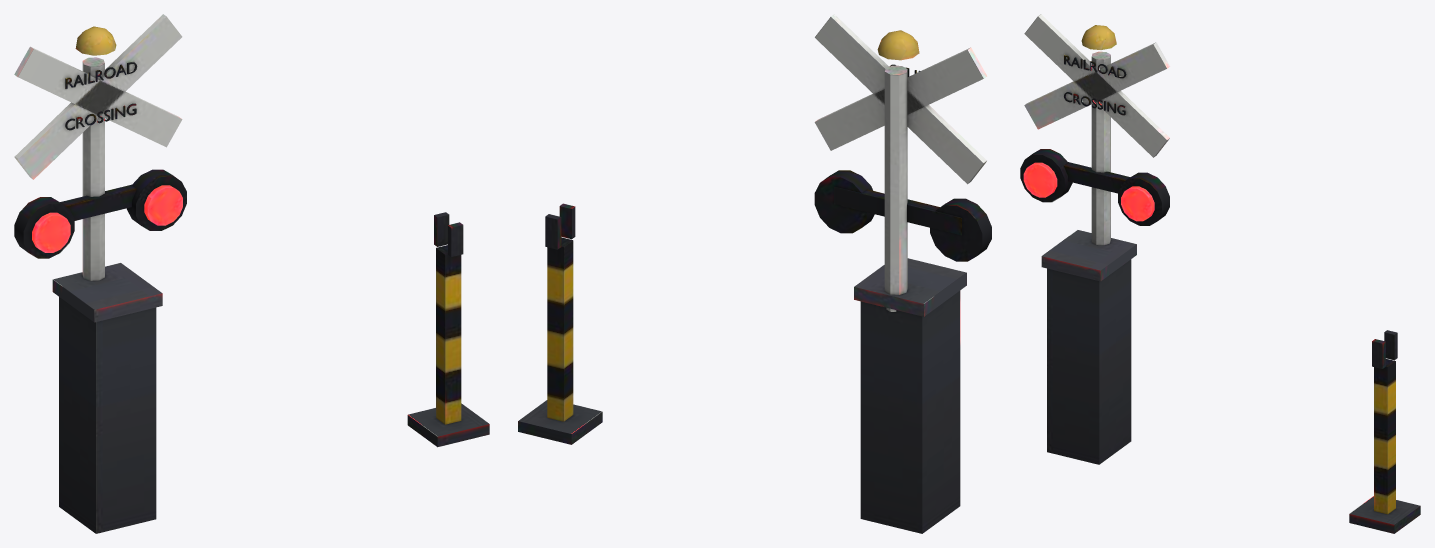
Rendered from paso_nivel.glb.
3 renders of one model, left to right at view 1: azimuth 30°, elevation 25°; view 2: azimuth 150°, elevation 25°; view 3: azimuth 330°, elevation 25°, orthographic. The views are drawn at different scales.
Visible parts, largest first — view 1: paso_nivel; view 2: paso_nivel; view 3: paso_nivel.
Boxes of the visible parts, x1,y1,x2,y2 form: paso_nivel: (14, 14, 489, 533); paso_nivel: (518, 14, 991, 533); paso_nivel: (1020, 14, 1420, 533).
Size of the model in its own units: 2.24 by 2.27 by 0.37.
Materials: 1 (1 with a texture image).
